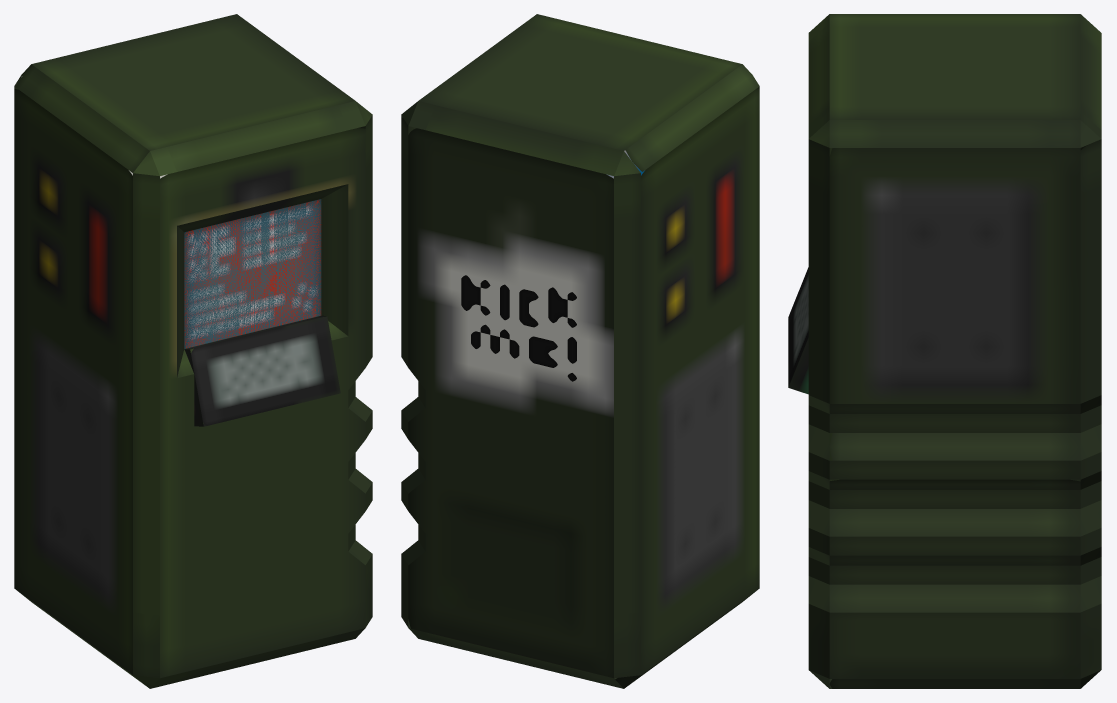
The model's file is Computadora_B.obj.
3 views of the same model, side by side, from view 1: azimuth 30°, elevation 25°; view 2: azimuth 150°, elevation 25°; view 3: azimuth 270°, elevation 25° (orthographic). The views are drawn at different scales.
Visible parts, largest first — view 1: Terminal, SadScreen, Keypad; view 2: Terminal, KICKME; view 3: Terminal, Keypad.
Boxes of the visible parts, <box> form: Terminal: <box>14,14,372,688</box>; SadScreen: <box>184,199,321,348</box>; Keypad: <box>184,315,340,426</box>; Terminal: <box>401,14,759,688</box>; KICKME: <box>461,275,576,381</box>; Terminal: <box>808,14,1101,688</box>; Keypad: <box>788,267,808,394</box>.
Bounding box in the file's own units: 0.875 × 1.88 × 0.9385.
1 material, 1 textured.
